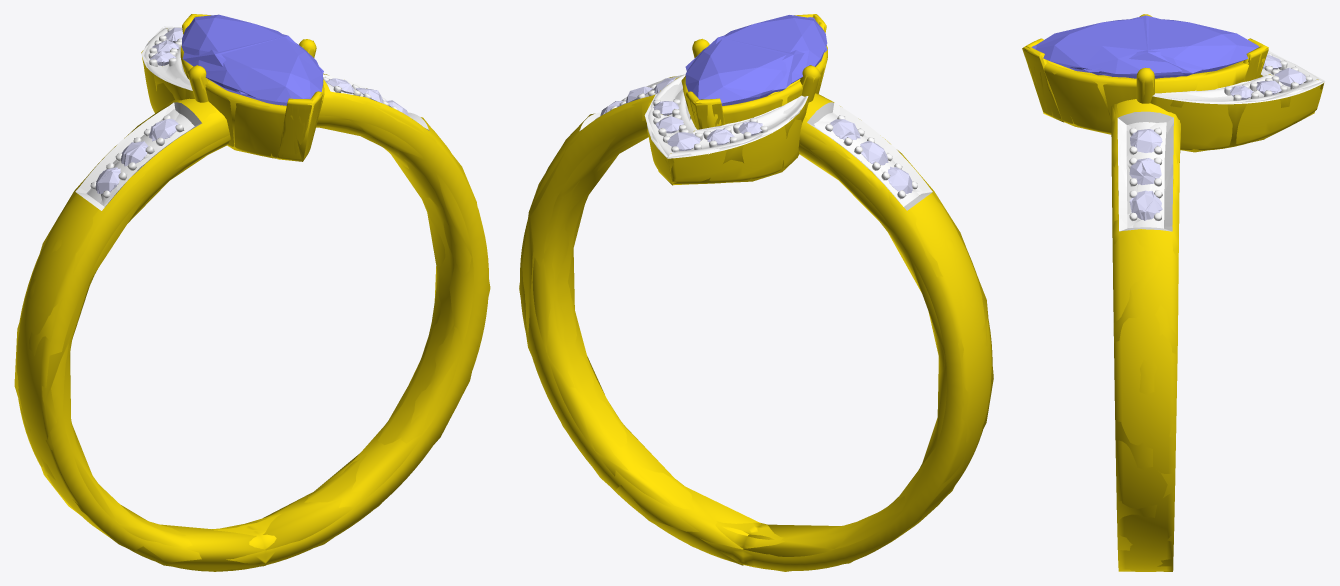
The model's file is DLR-D000284426_hub.glb.
3 renders of one model, left to right at view 1: azimuth 30°, elevation 25°; view 2: azimuth 150°, elevation 25°; view 3: azimuth 270°, elevation 25°, orthographic.
Parts seen in each view (by area): view 1: highPolyMesh, lowPolyMesh; view 2: highPolyMesh, lowPolyMesh; view 3: highPolyMesh, lowPolyMesh.
Boxes of the visible parts, bbox=[...] form: highPolyMesh: bbox=[16, 14, 488, 571]; lowPolyMesh: bbox=[14, 14, 490, 571]; highPolyMesh: bbox=[520, 14, 992, 570]; lowPolyMesh: bbox=[519, 14, 993, 571]; highPolyMesh: bbox=[1023, 14, 1323, 571]; lowPolyMesh: bbox=[1022, 14, 1324, 571].
Bounding box in the file's own units: 0.0198 × 0.0214 × 0.0114.
